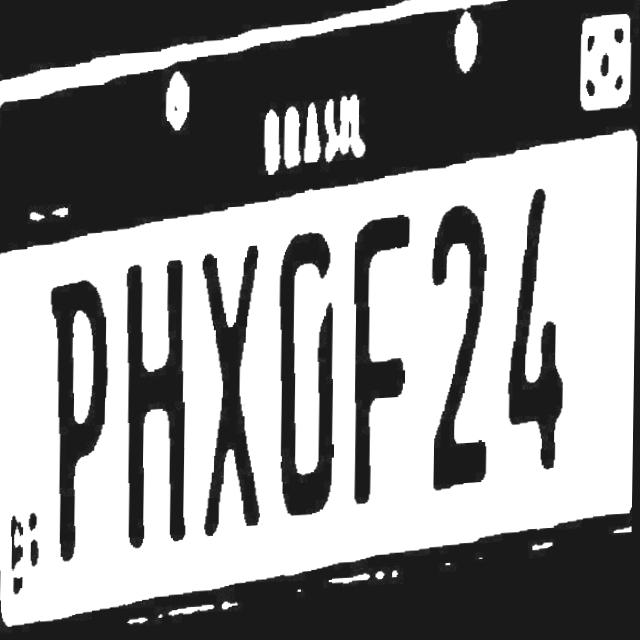0: (275, 230, 346, 537)
2: (418, 191, 502, 501)
4: (499, 182, 576, 494)
f: (338, 216, 421, 536)
h: (117, 261, 202, 558)
p: (38, 270, 113, 567)
x: (198, 242, 280, 545)
